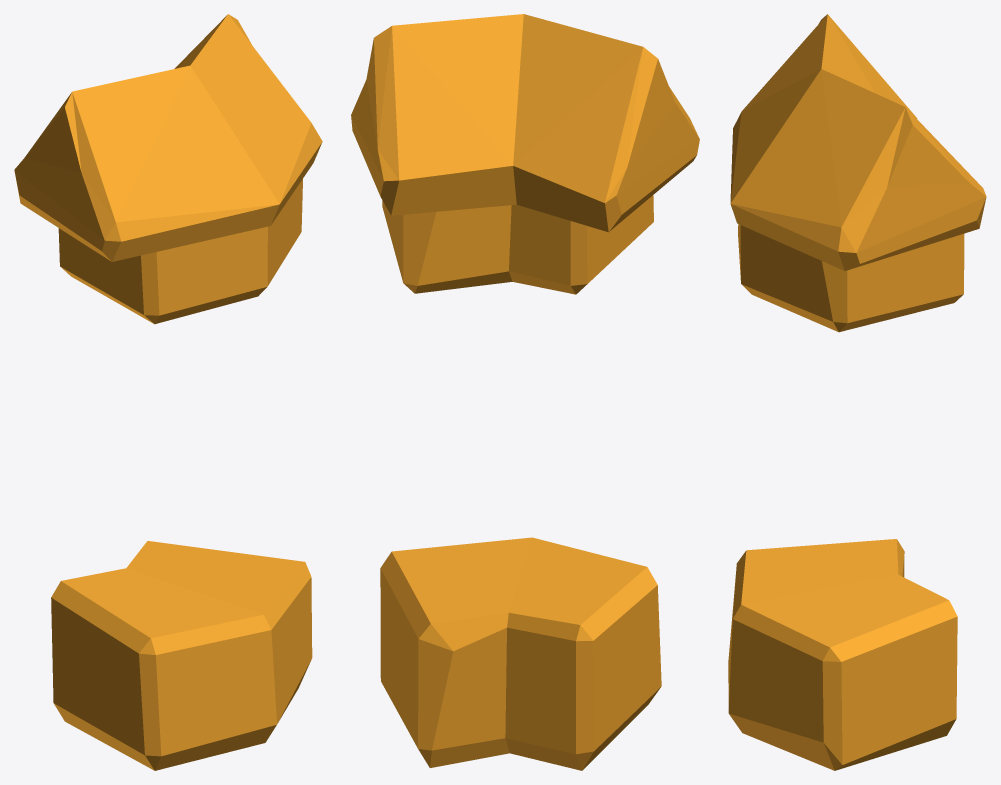
File: SM_Crenelations_Diagonal_Corner_Obtuse_Small_A_Fantasy.fbx
The picture shows the model from 3 angles, left to right: view 1: azimuth 30°, elevation 25°; view 2: azimuth 150°, elevation 25°; view 3: azimuth 270°, elevation 25°; orthographic projection. The views are drawn at different scales.
Visible parts, largest first — view 1: SM_Crenelations_Diagonal_Corner_Obtuse_Small_A_Fantasy; view 2: SM_Crenelations_Diagonal_Corner_Obtuse_Small_A_Fantasy; view 3: SM_Crenelations_Diagonal_Corner_Obtuse_Small_A_Fantasy.
Part boxes in pixels (x1=…): SM_Crenelations_Diagonal_Corner_Obtuse_Small_A_Fantasy: x1=14, y1=14, x2=322, y2=770; SM_Crenelations_Diagonal_Corner_Obtuse_Small_A_Fantasy: x1=351, y1=14, x2=699, y2=770; SM_Crenelations_Diagonal_Corner_Obtuse_Small_A_Fantasy: x1=728, y1=14, x2=986, y2=770.
Bounding box in the file's own units: 0.8916 × 2.06 × 0.7345.
